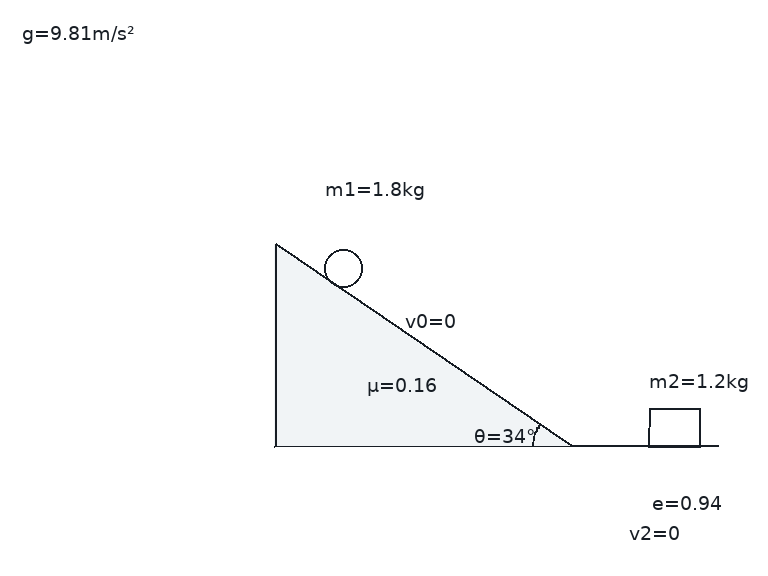ball: (322, 247, 364, 289)
block: (646, 407, 702, 448)
ramp: (273, 243, 575, 448)
